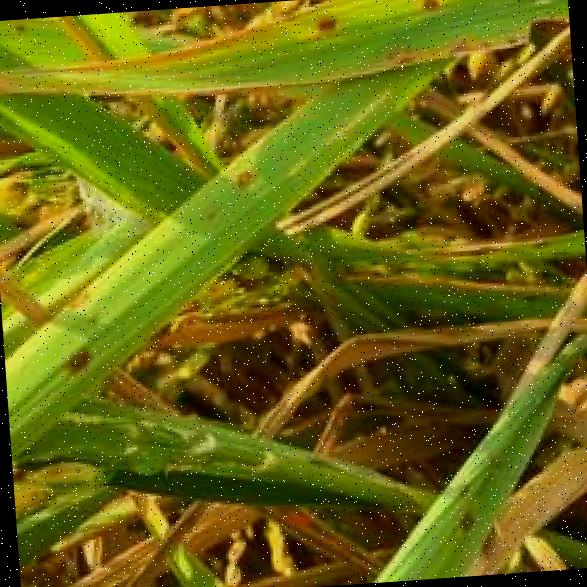Brown_Spot: (48, 339, 96, 376), (305, 3, 346, 36), (448, 499, 472, 530), (221, 162, 256, 183), (409, 0, 444, 12)
